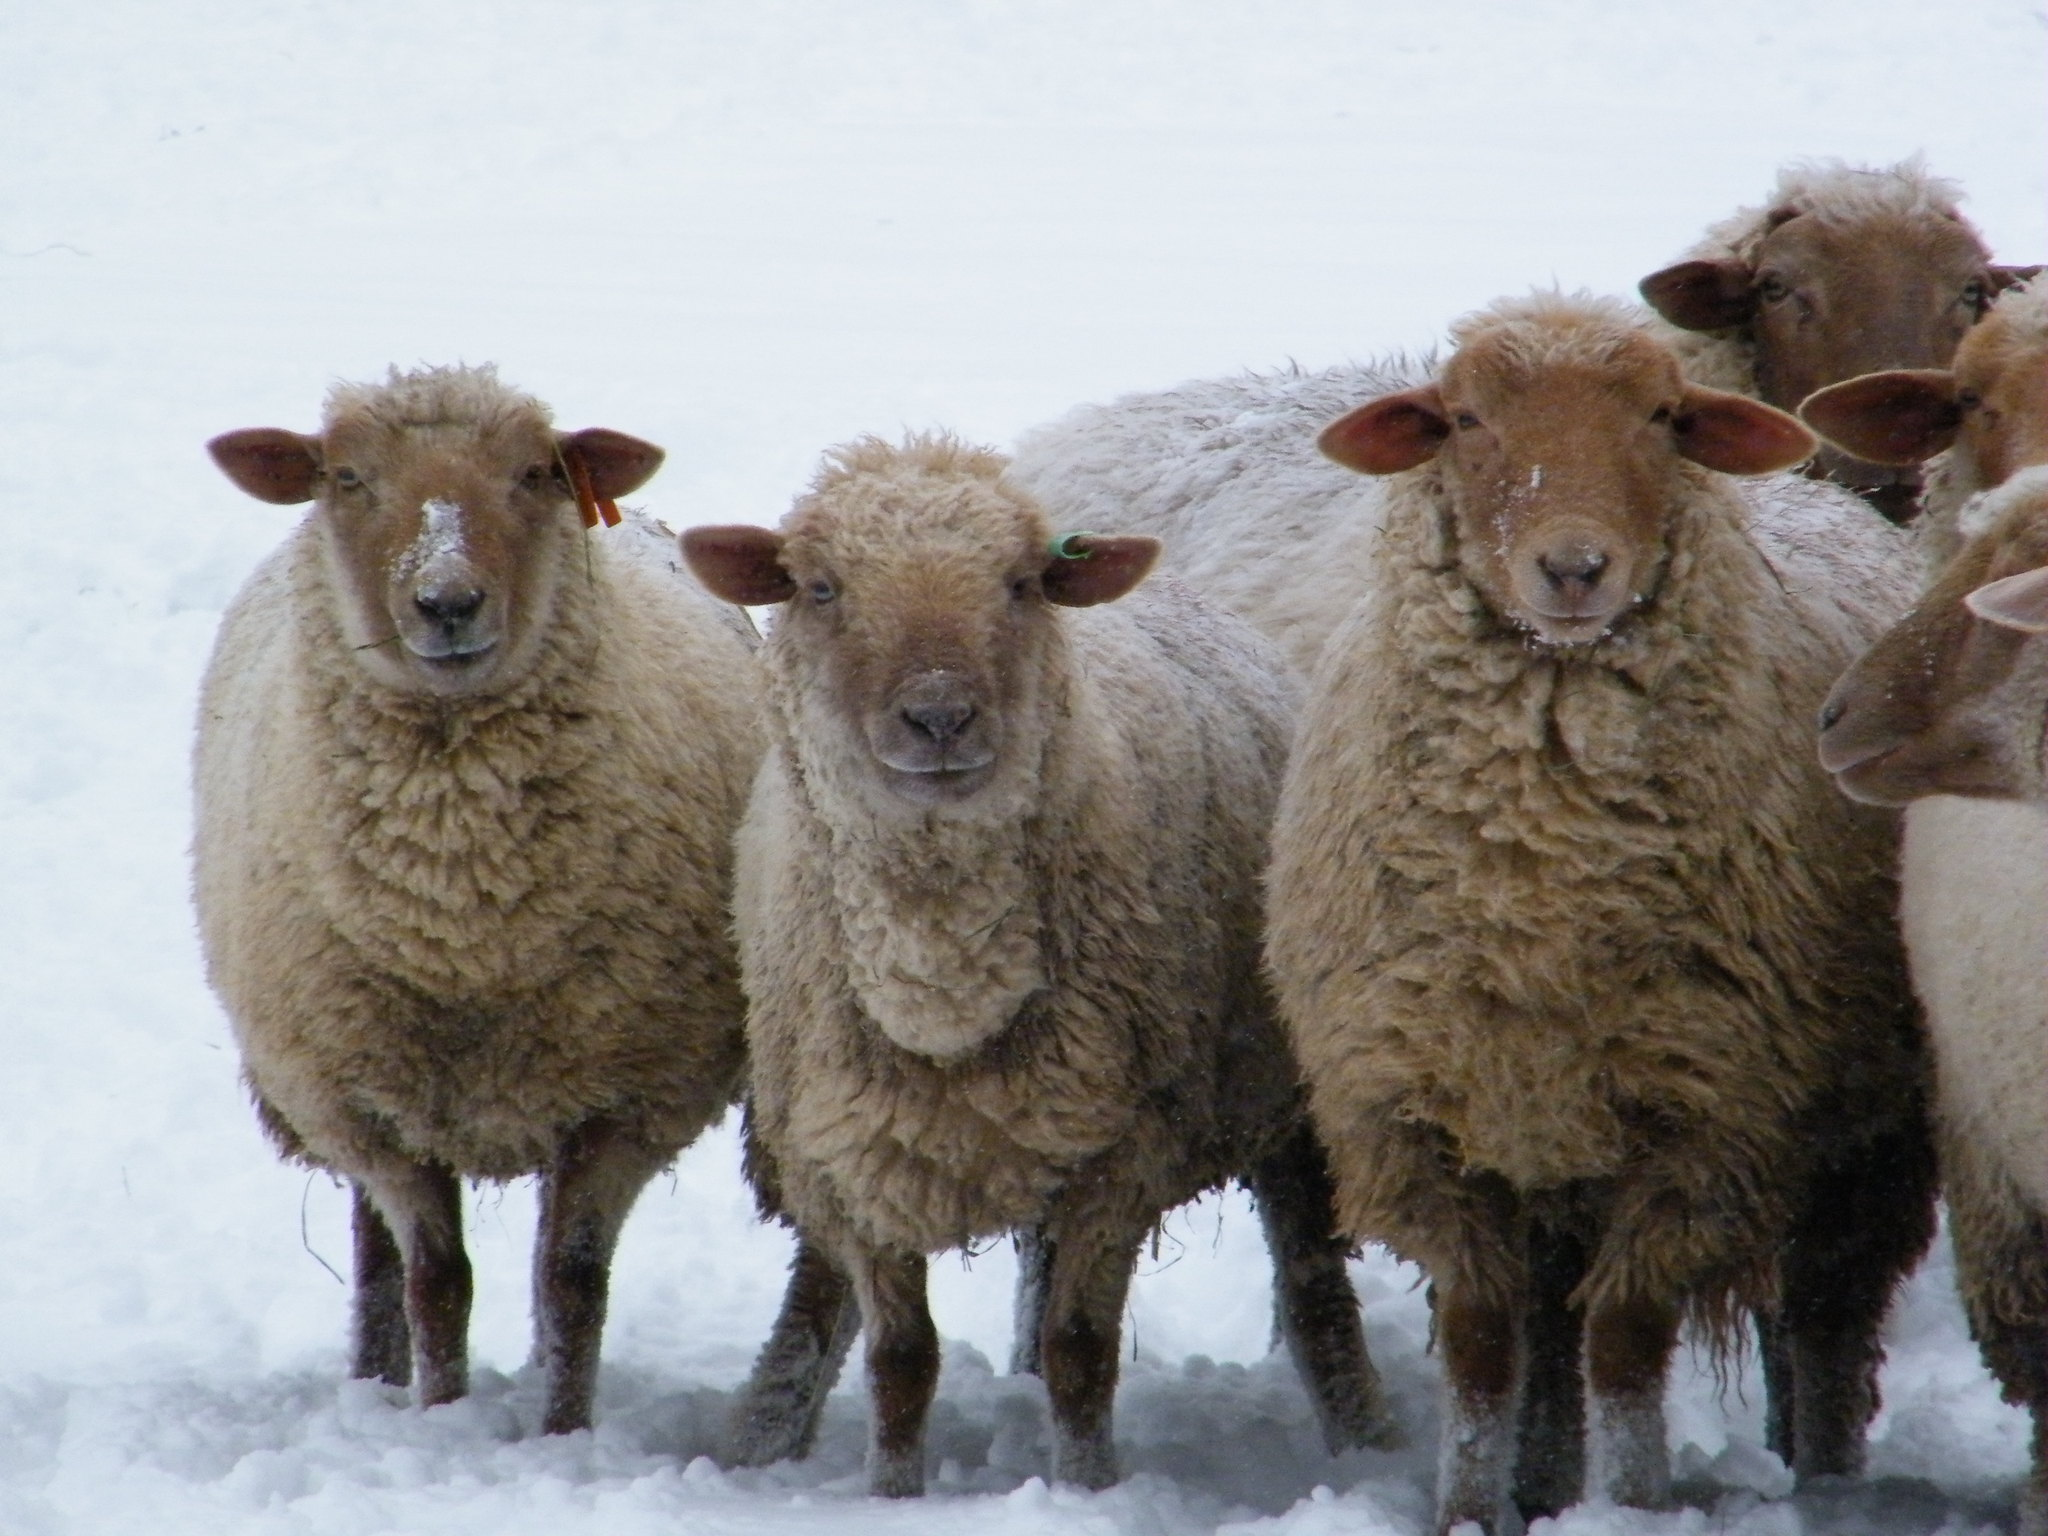sheep: (1259, 307, 1888, 1512), (672, 415, 1367, 1476), (190, 365, 748, 1447)
